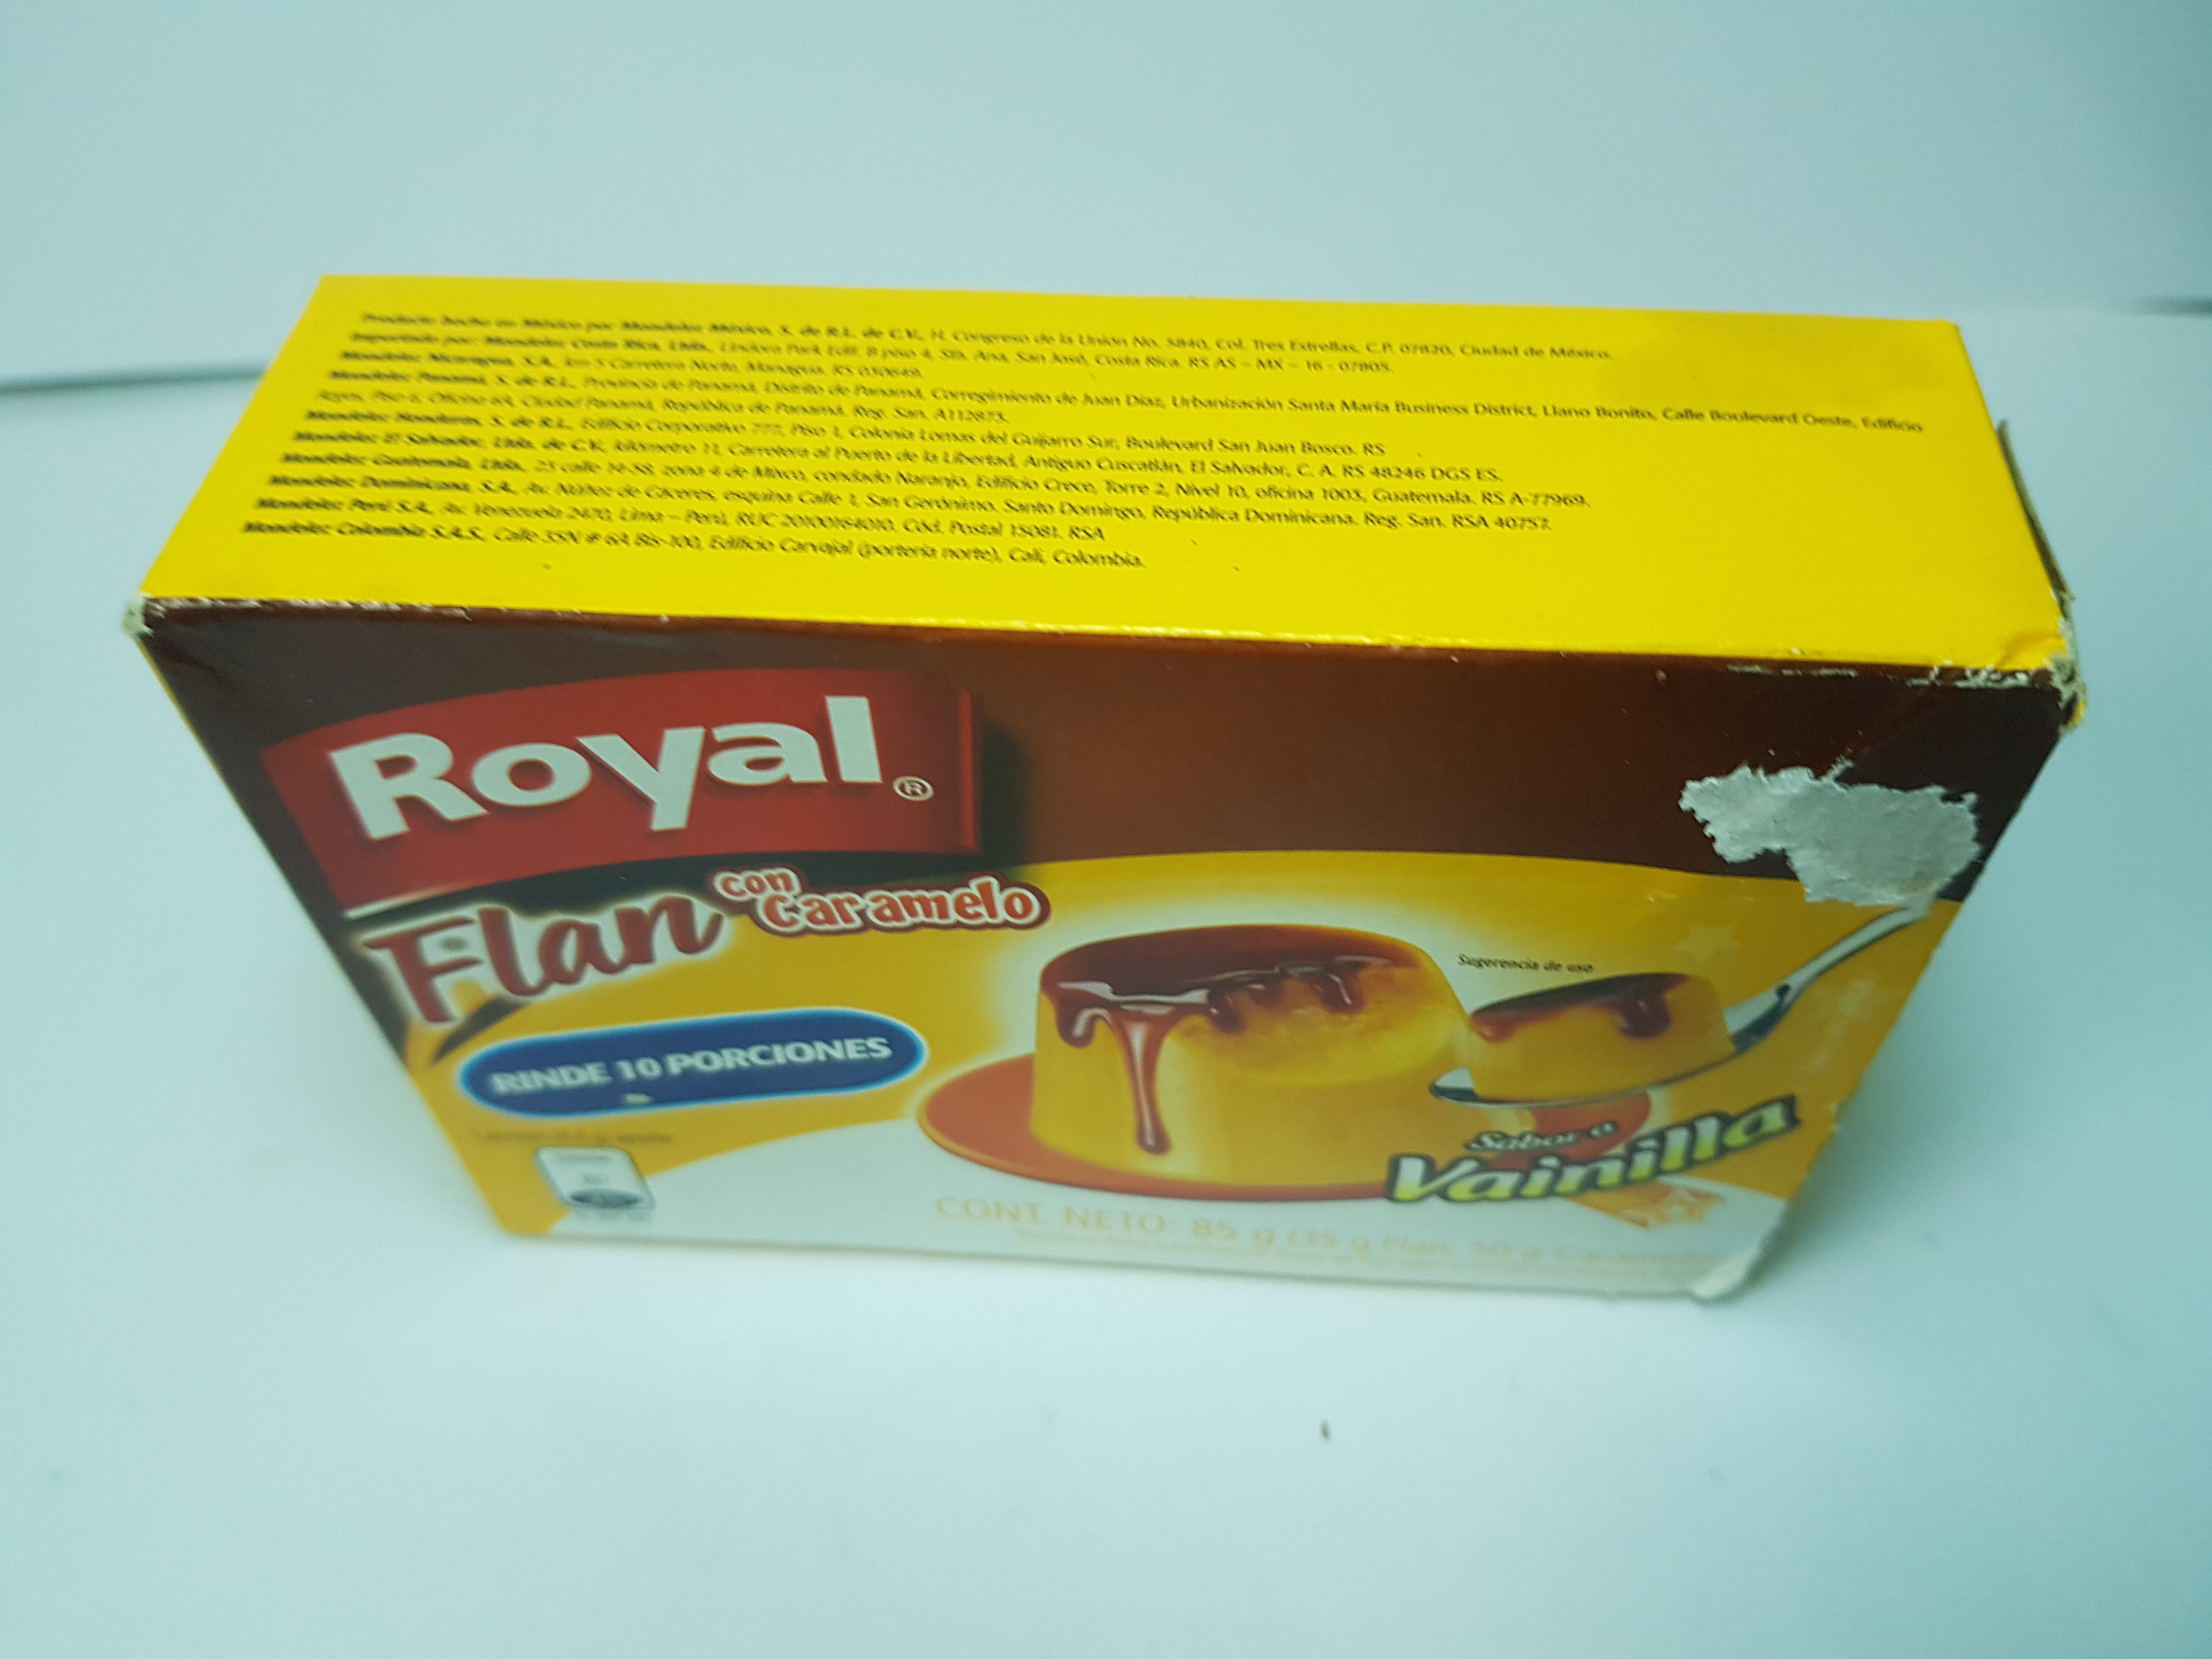flan: (120, 225, 2120, 1323)
